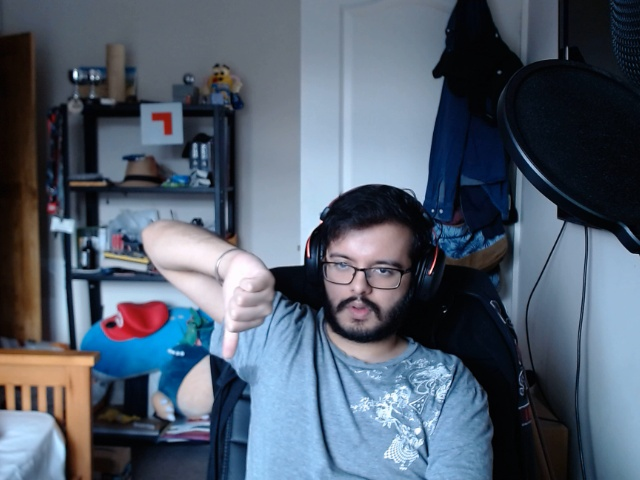Thumbs down: (221, 250, 291, 364)
